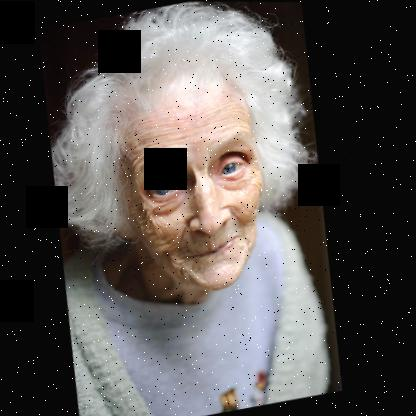Female: (86, 54, 292, 305)
